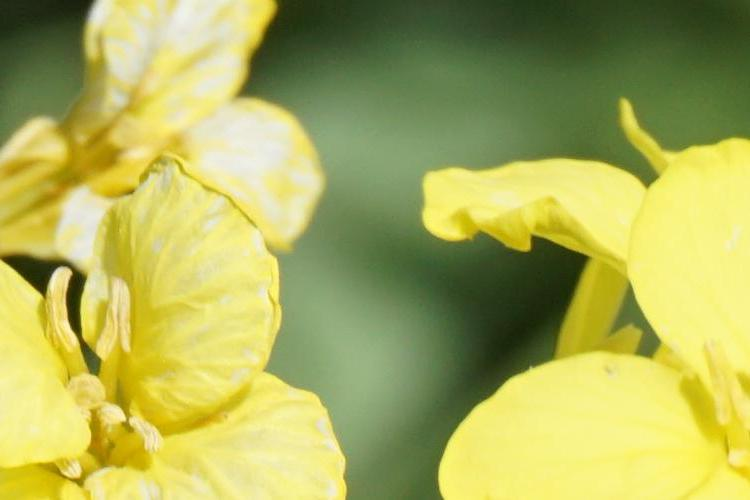yellow: (422, 141, 740, 500), (3, 182, 335, 499), (4, 6, 325, 239)
